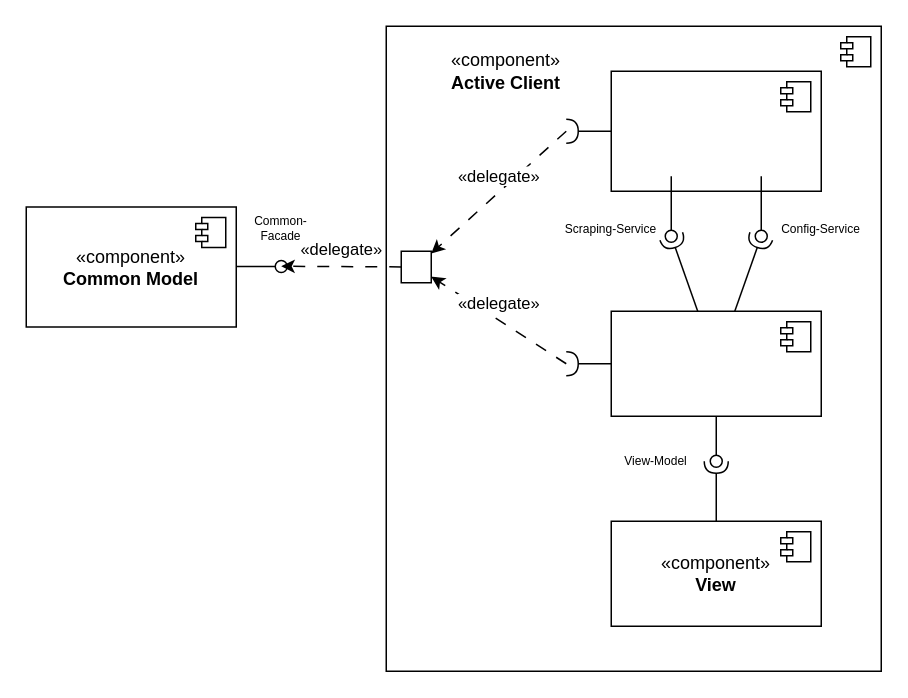
Image size: 908x698. Some labels were removed from this diagram. The centre of each missing label's shape, as x and y in pixels:
"«component» Active Model" goes at point (715, 130).
"«component» ViewModel" goes at point (715, 363).
